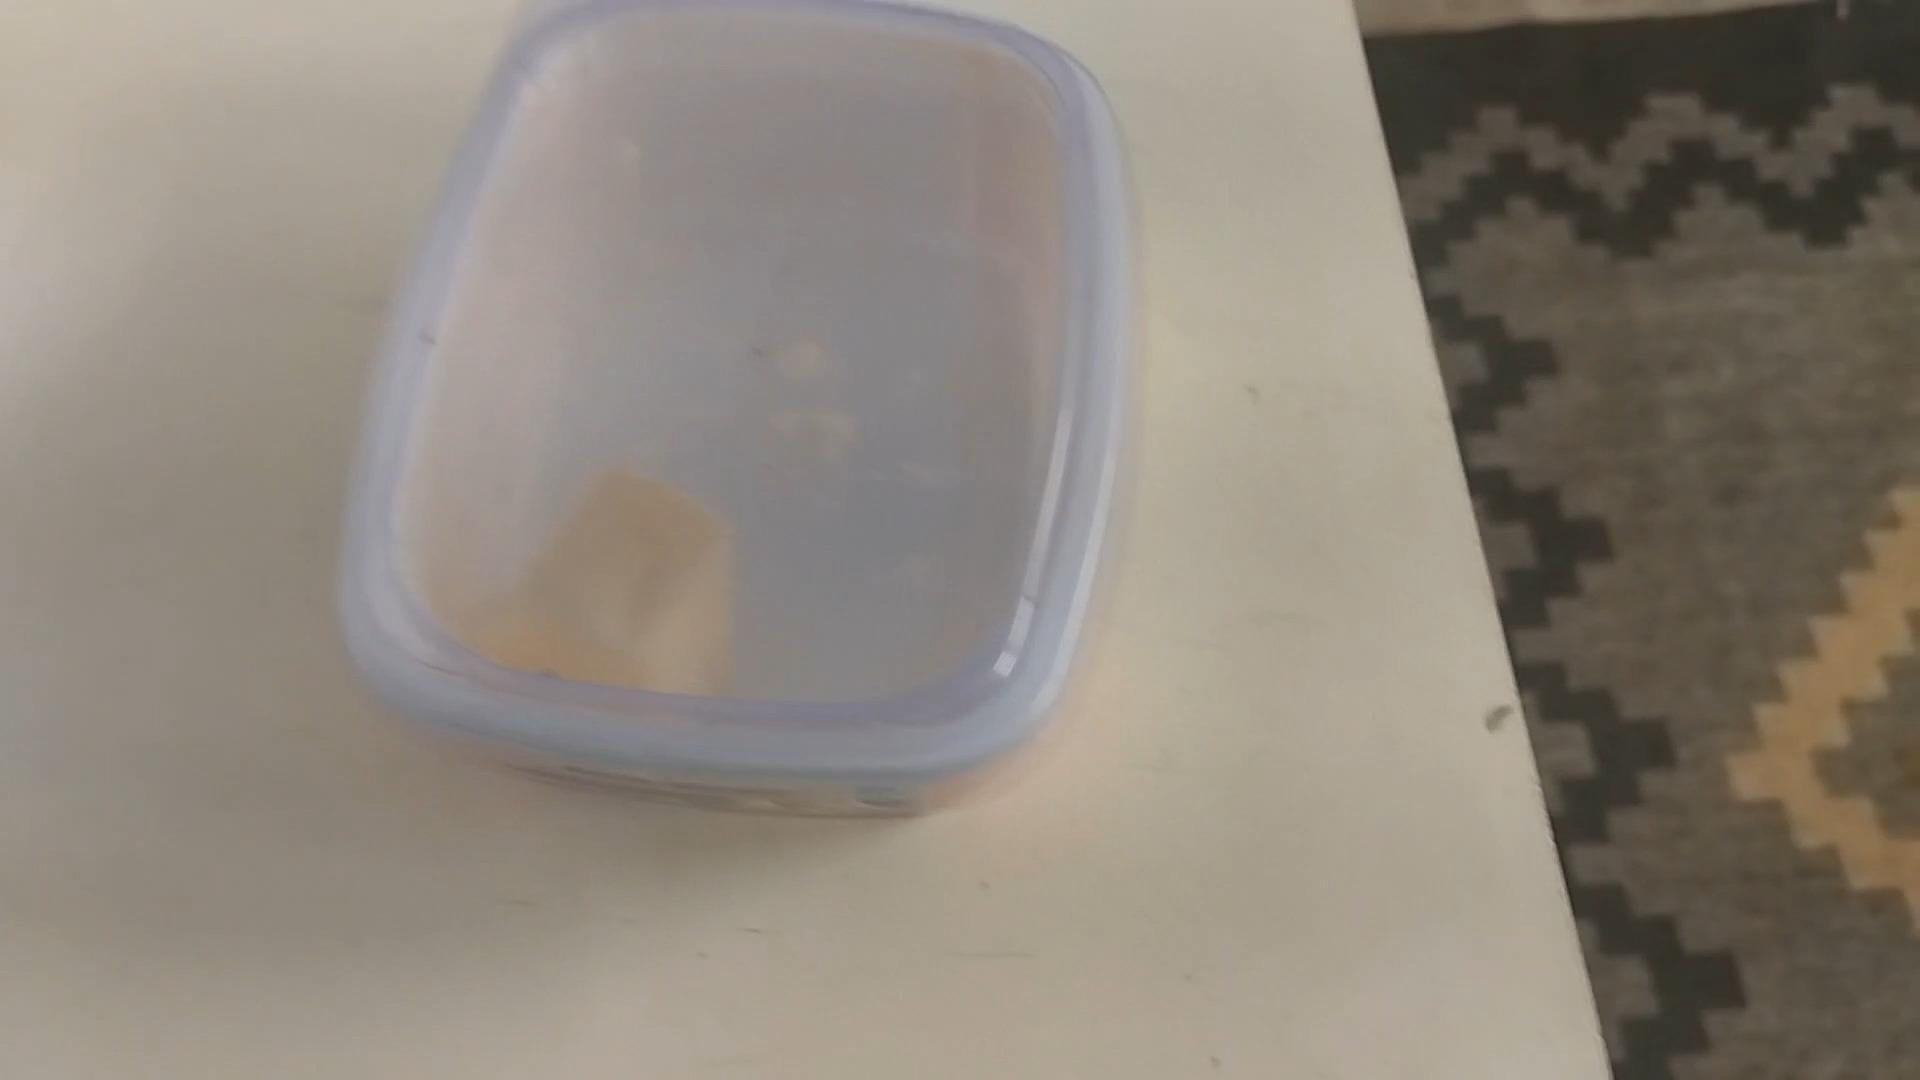butter: (342, 13, 1122, 820)
